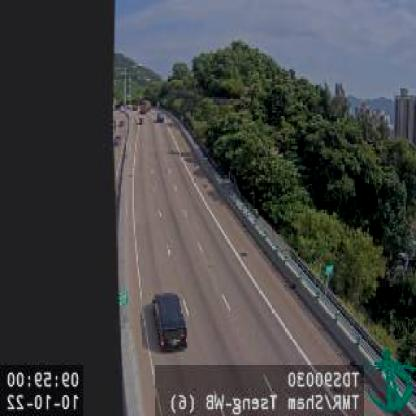Car: (150, 290, 190, 350)
